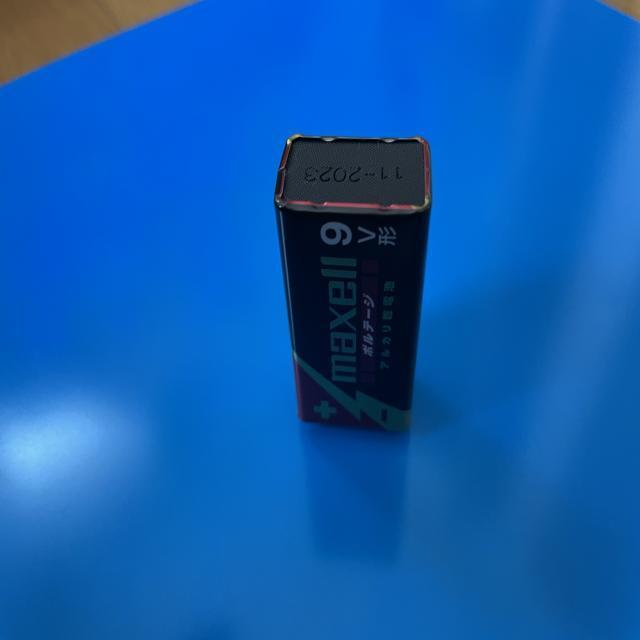9V: (275, 134, 433, 429)
